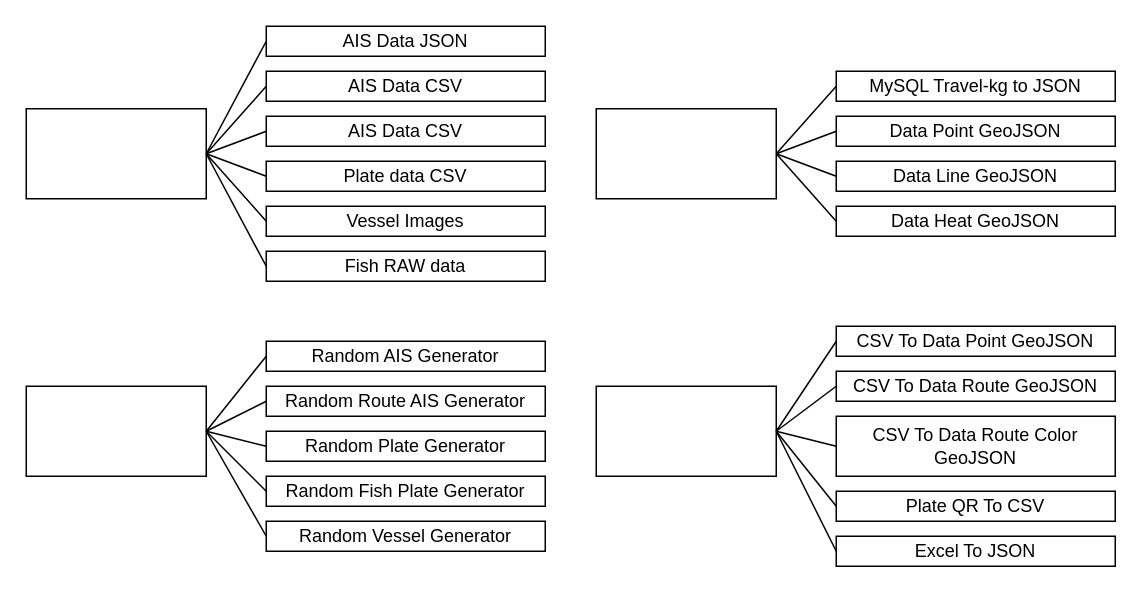
The diagram is 1142 pixels wide and 593 high, and some of its shapes have lost their labels. The centre of each missing label's shape, as x and y in pixels:
Convert: the point at 685,430
Export: the point at 685,153
Import: the point at 115,153
Random data generator: the point at 115,430
